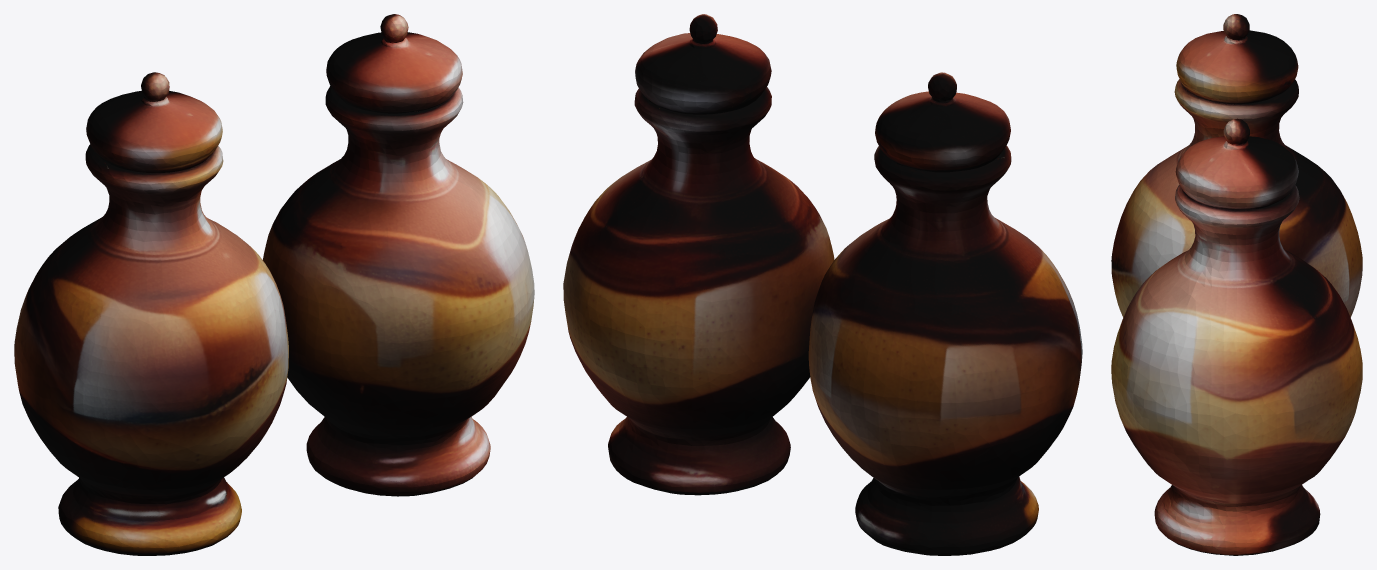
Rendered from ceramic-salt-and-pepper-shaker-rustic.jpeg.glb.
3 renders of one model, left to right at view 1: azimuth 30°, elevation 25°; view 2: azimuth 150°, elevation 25°; view 3: azimuth 270°, elevation 25°, orthographic. The views are drawn at different scales.
Parts seen in each view (by area): view 1: world; view 2: world; view 3: world.
Part boxes in pixels (x1,y1,x2,y2): world: (14,14,534,555); world: (563,14,1082,555); world: (1111,14,1362,555).
Size of the model in its own units: 0.9994 by 0.8895 by 0.5033.
1 material, 1 textured.
